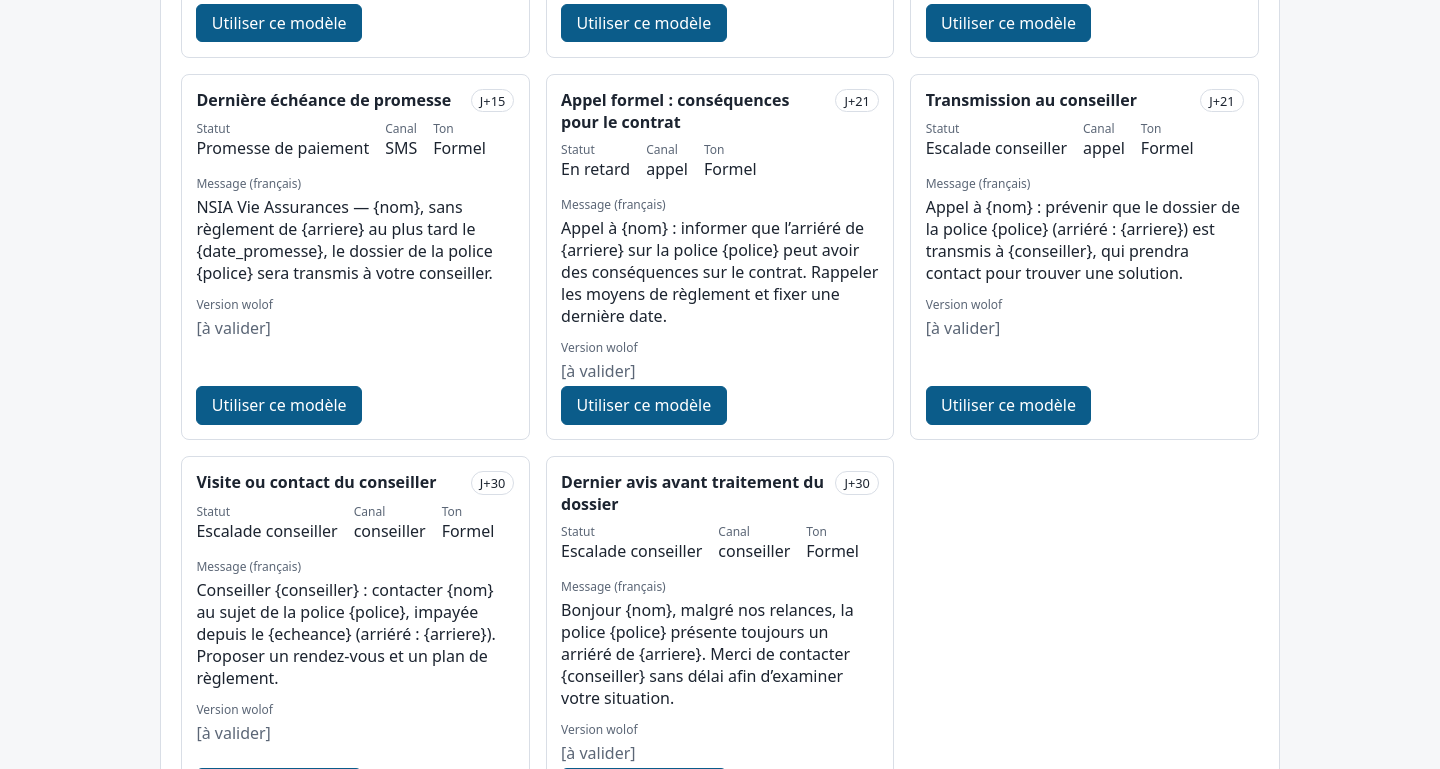
Test: App › pre-fills the journal form from a template
(page scrolled)
Step 1. Click the button with aria-label "utiliser le modèle « appel formel" → click(644, 405), box 561,386 -> 727,425
(page scrolled)
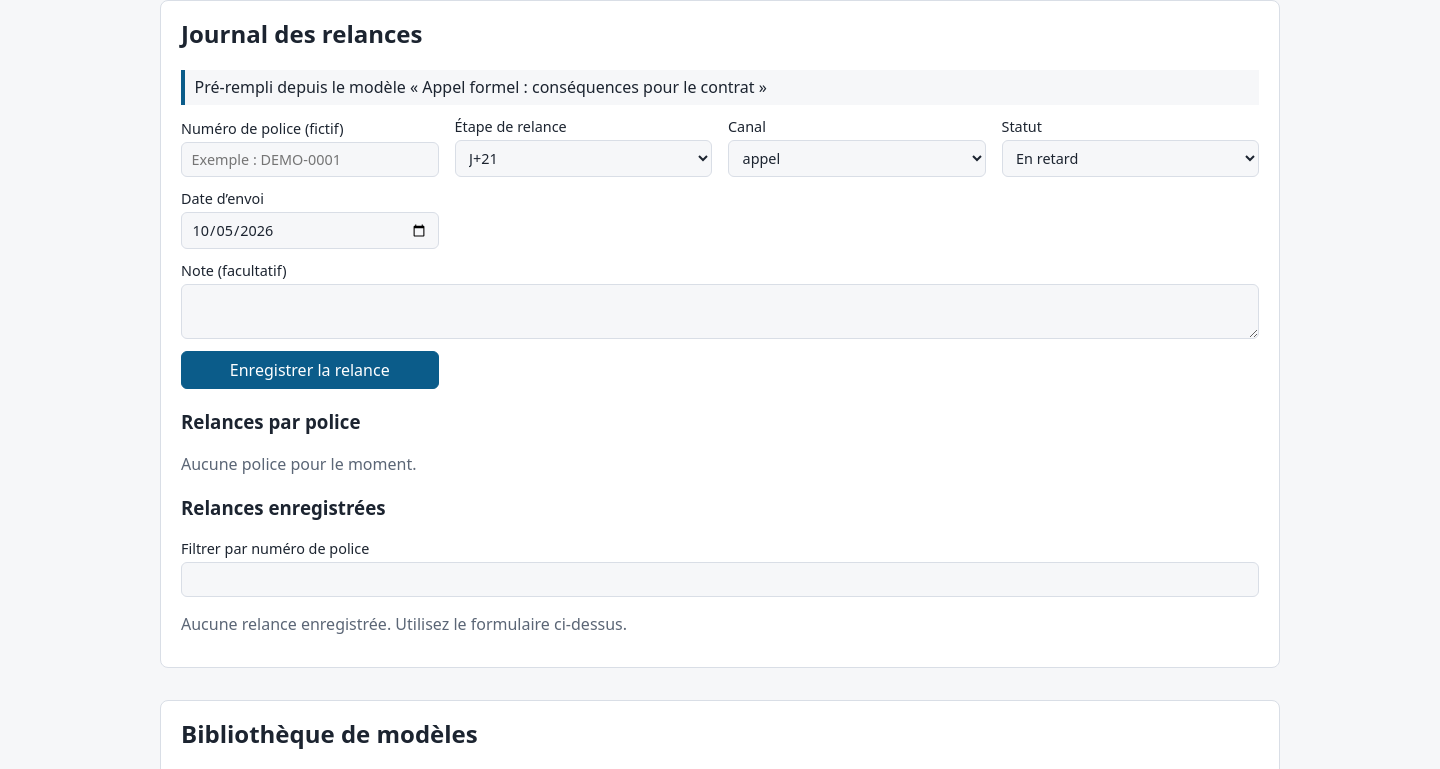
Expected: the dropdown labelled "Étape de relance" shows "J+21", 454,140 -> 712,177
Expected: the dropdown labelled "Canal" shows "appel", 728,140 -> 986,177
Expected: the dropdown labelled "Statut" shows "En retard", 1002,140 -> 1259,177
